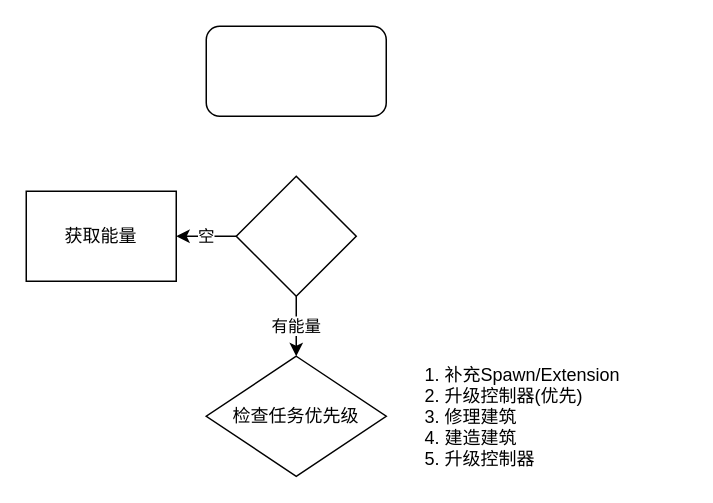
Image size: 713x503. Some labels were removed from this diagram. The shapes that lost their labels are listed below. From the top down, each one's centre as x and y in pixels, then its label:
At (295,70): "开始".
At (295,235): "检查背包".
